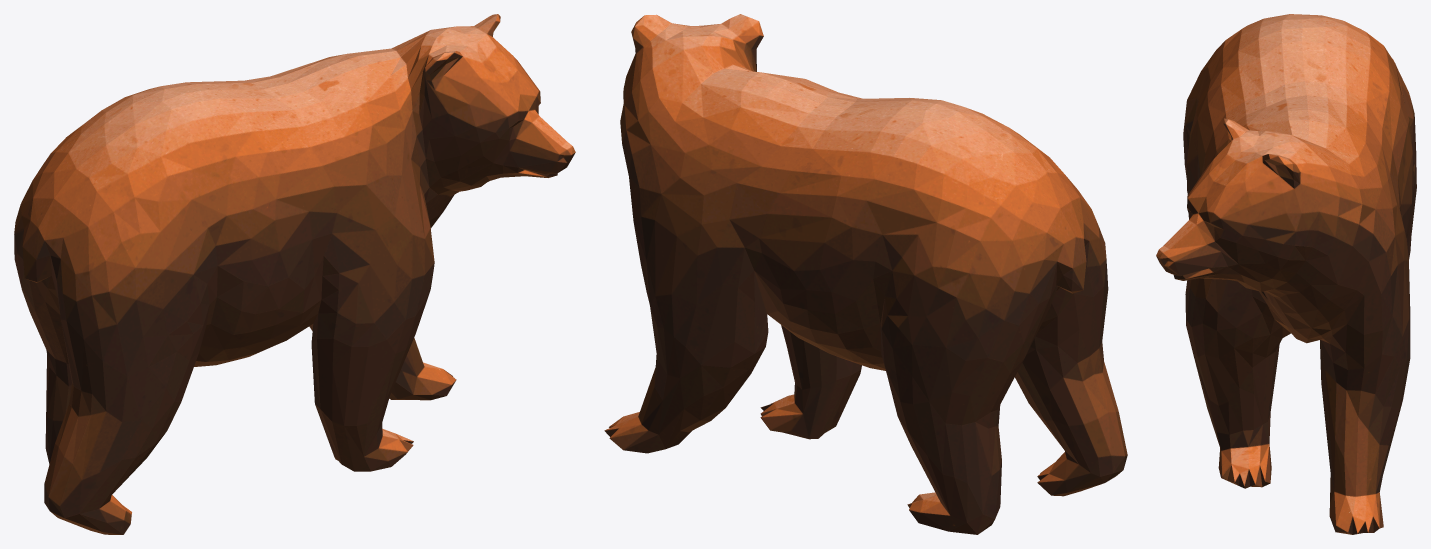
File: bear.fbx
The picture shows the model from 3 angles, left to right: view 1: azimuth 30°, elevation 25°; view 2: azimuth 150°, elevation 25°; view 3: azimuth 270°, elevation 25°; orthographic projection. The views are drawn at different scales.
Parts seen in each view (by area): view 1: node_id30; view 2: node_id30; view 3: node_id30.
Part boxes in pixels (left/top/right/bottom): node_id30: left=14, top=14, right=575, bottom=534; node_id30: left=604, top=14, right=1127, bottom=534; node_id30: left=1156, top=14, right=1416, bottom=534.
Bounding box in the file's own units: 0.512 × 0.3975 × 0.2431.
1 material, 1 textured.
